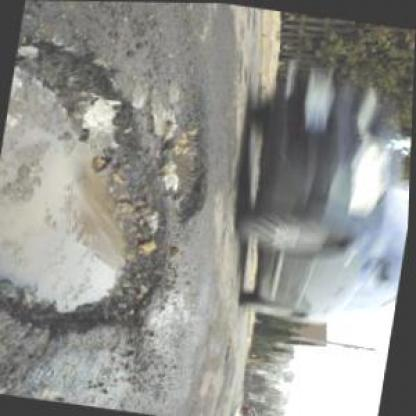pothole: (0, 29, 208, 352), (148, 85, 226, 226)
